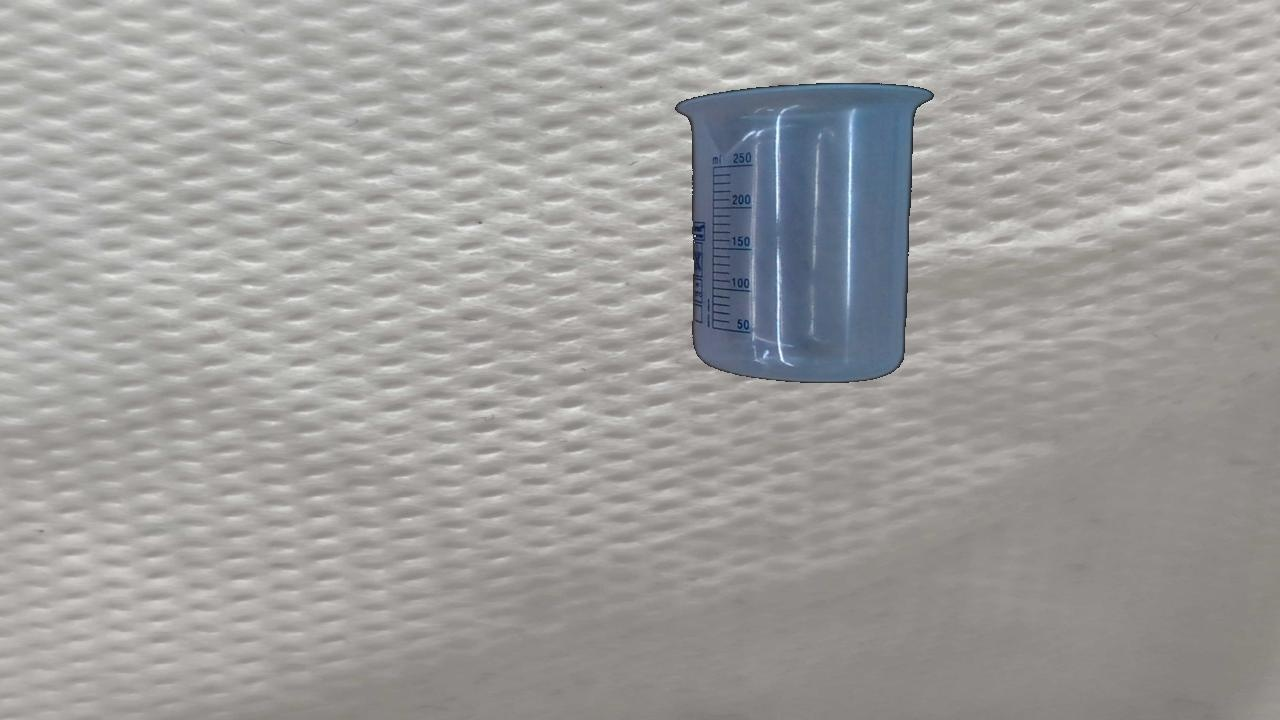becker: (675, 82, 928, 383)
